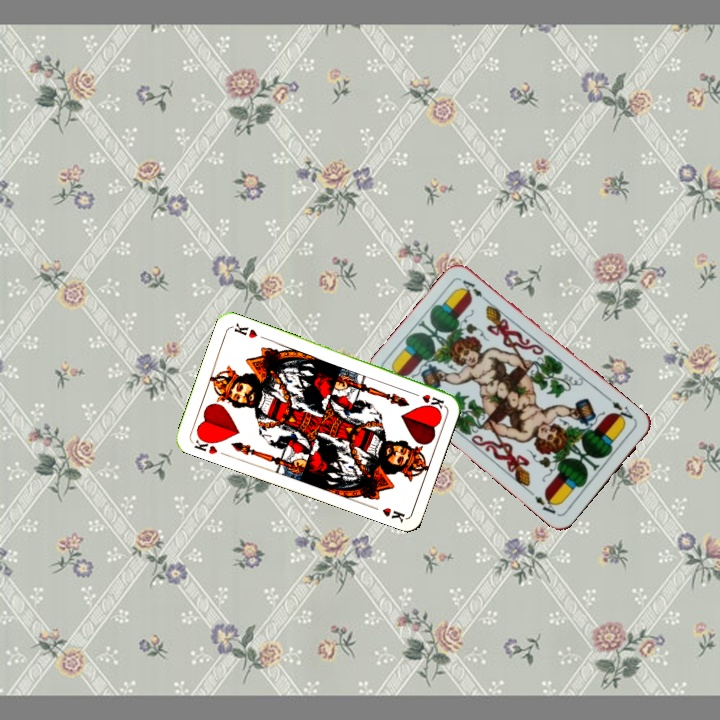EA: (604, 393, 638, 425)
HK: (407, 388, 447, 411), (190, 431, 220, 457)
